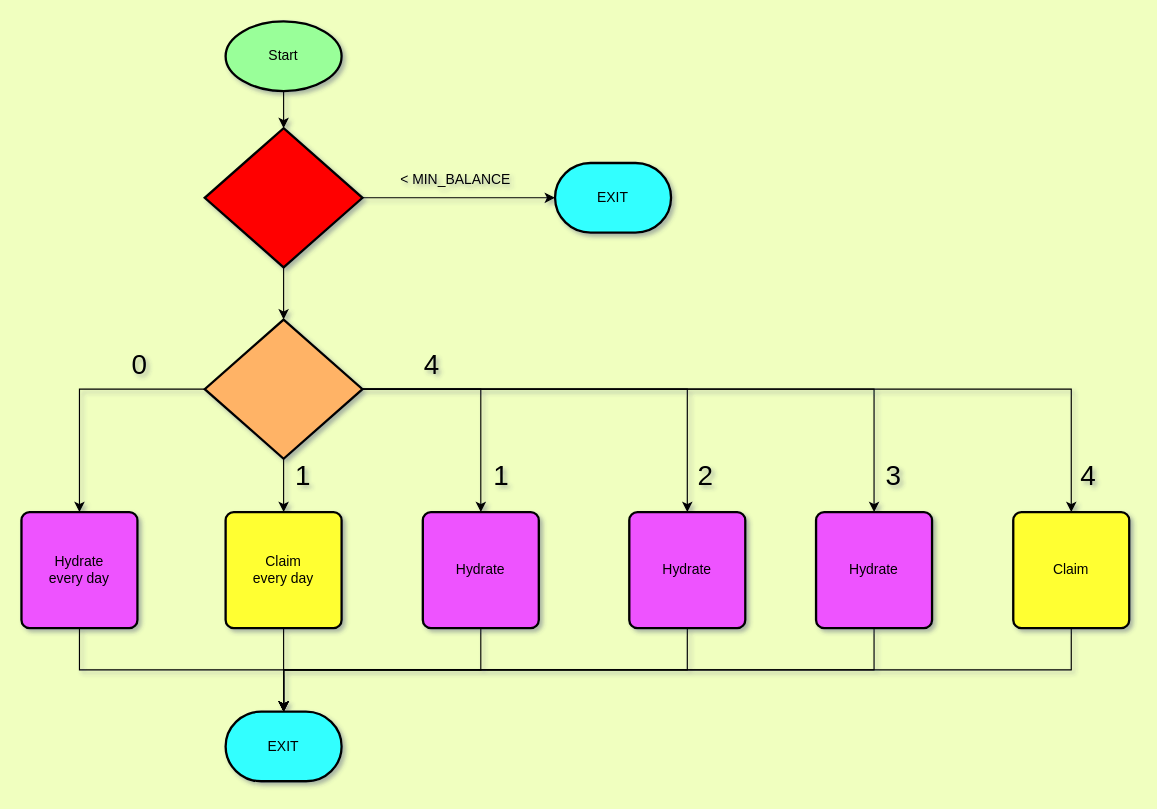
Image size: 1157x809. Some labels were removed from this diagram. Each missing label, with the box of its shape:
BNB Balance: (203, 126, 363, 268)
PERIOD: (203, 318, 363, 459)
